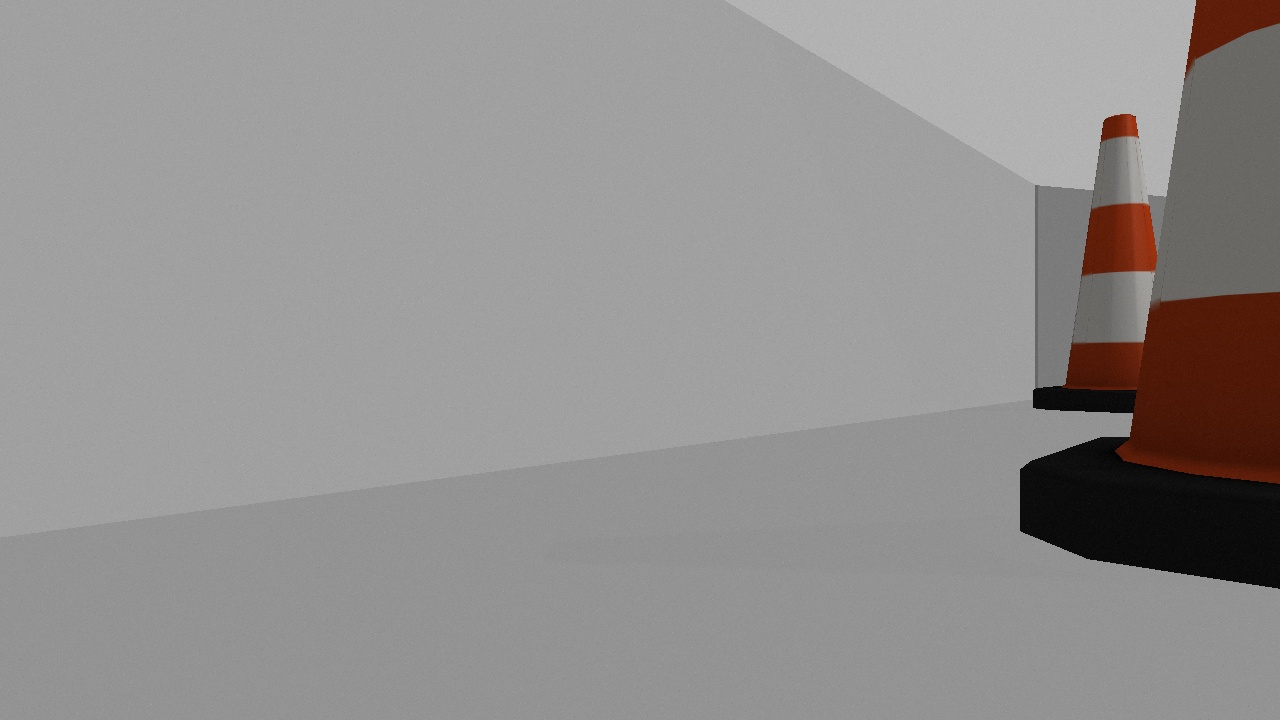barricade: (1018, 1, 1280, 592), (1031, 105, 1182, 412)
